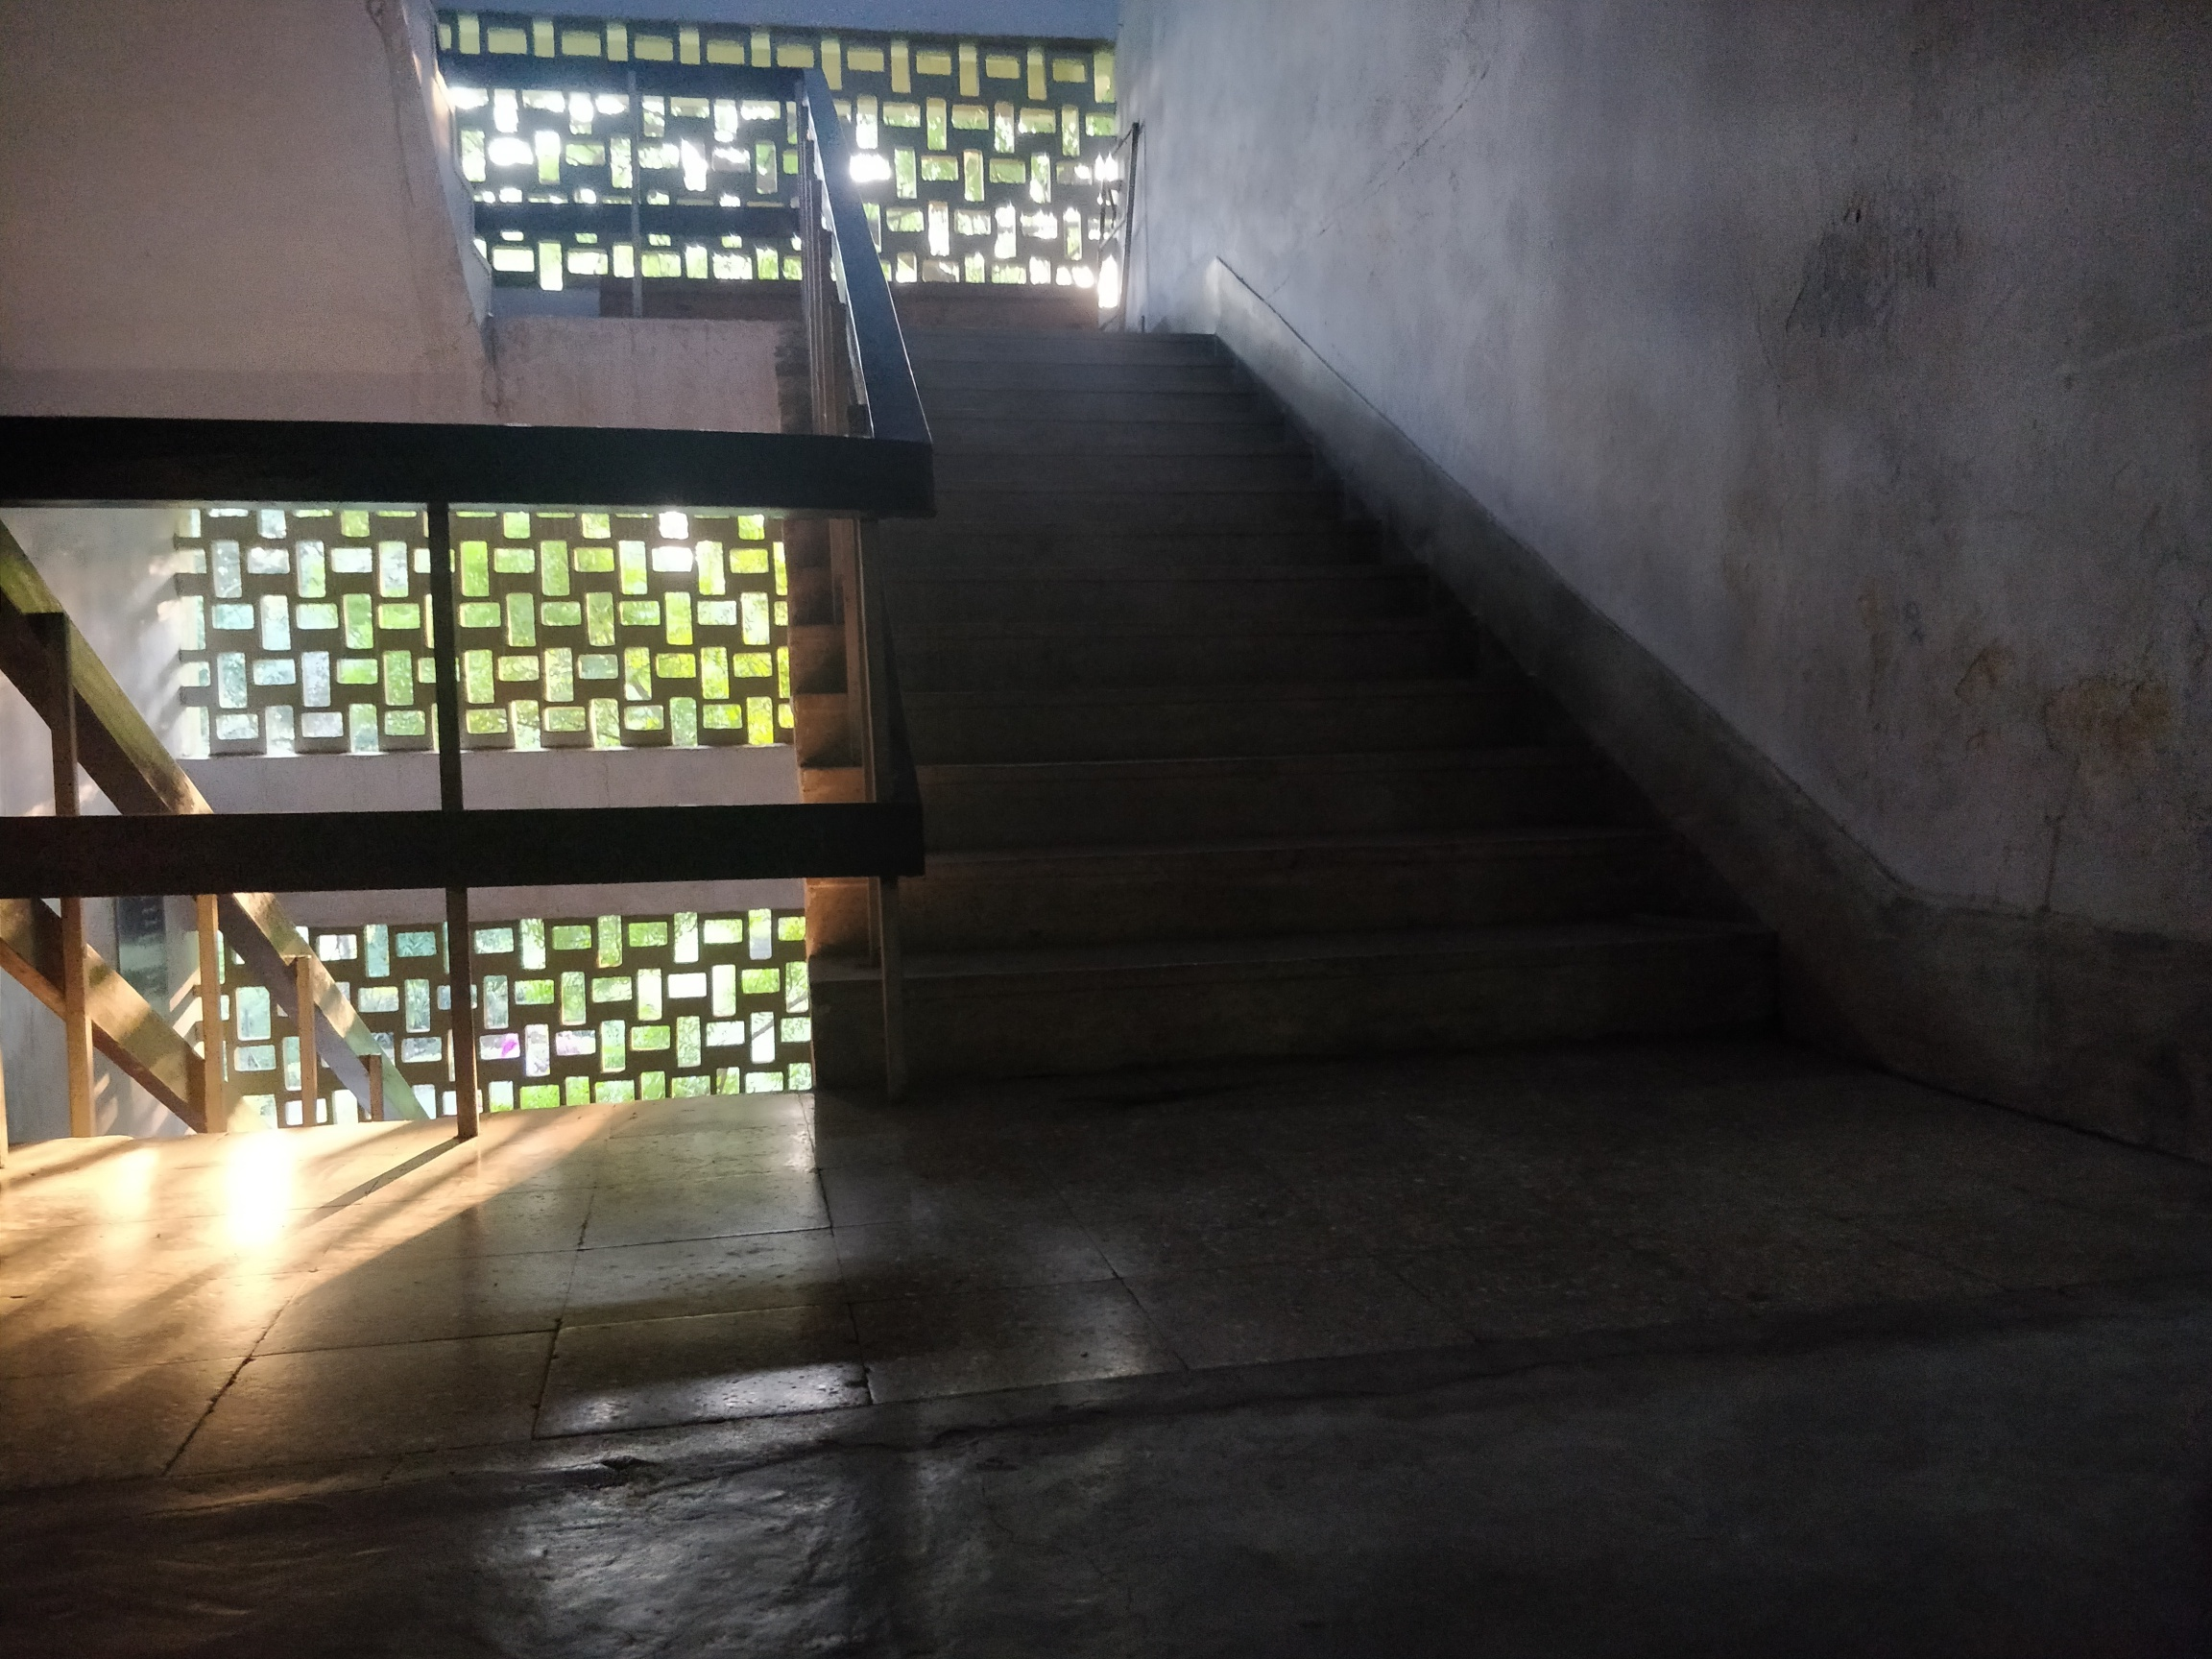stairs_up: (796, 303, 1737, 1058)
